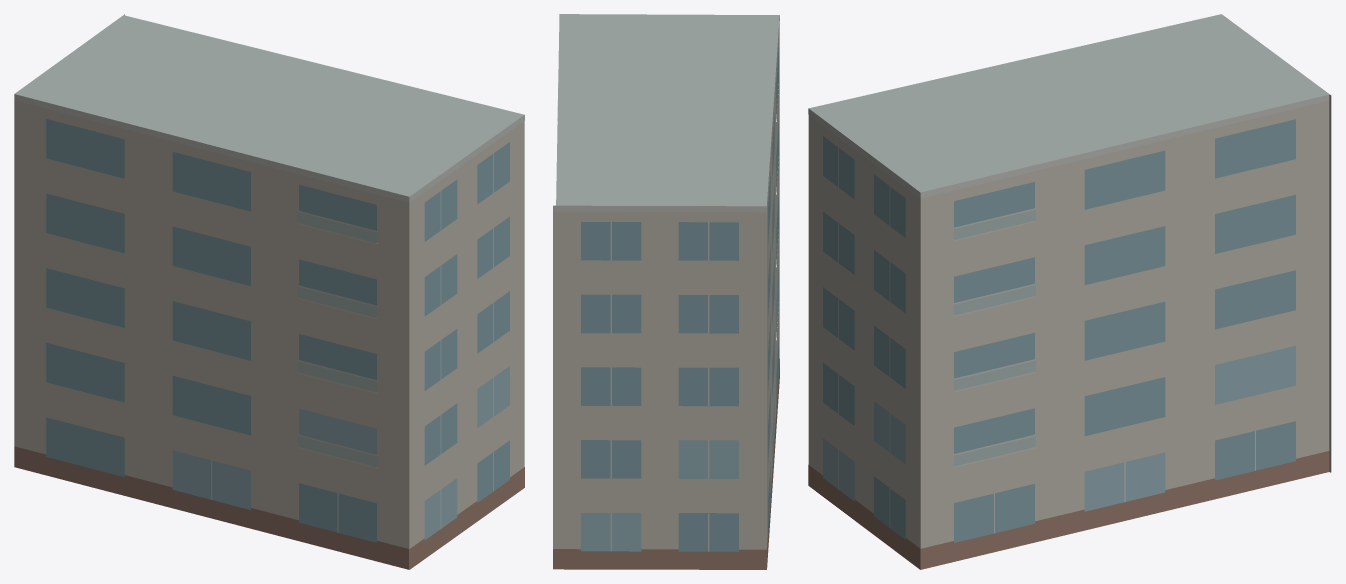
Rendered from survey-upis-32586001.glb.
3 renders of one model, left to right at view 1: azimuth 30°, elevation 25°; view 2: azimuth 150°, elevation 25°; view 3: azimuth 270°, elevation 25°, orthographic. The views are drawn at different scales.
Visible parts, largest first — view 1: survey-upis-32586001.tmp; view 2: survey-upis-32586001.tmp; view 3: survey-upis-32586001.tmp.
Part boxes in pixels (bbox=[...]): survey-upis-32586001.tmp: bbox=[14, 14, 524, 569]; survey-upis-32586001.tmp: bbox=[553, 14, 779, 569]; survey-upis-32586001.tmp: bbox=[808, 14, 1331, 569].
Bounding box in the file's own units: 15.12 × 14.9 × 18.72.
